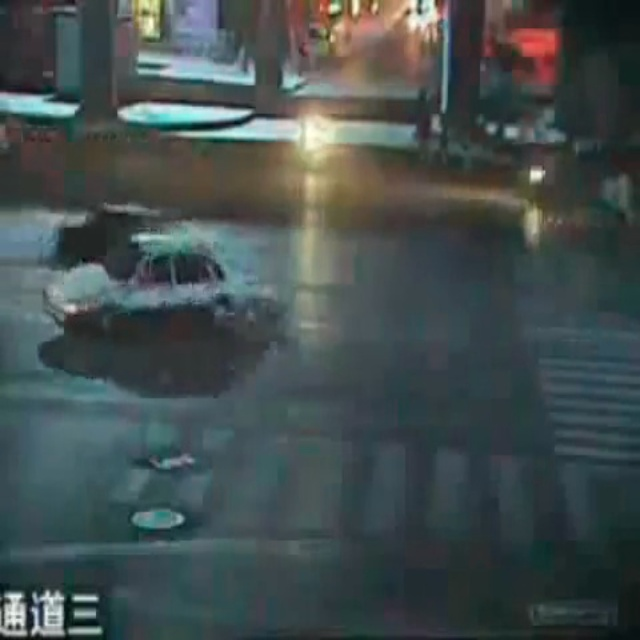acc: (29, 187, 271, 349)
